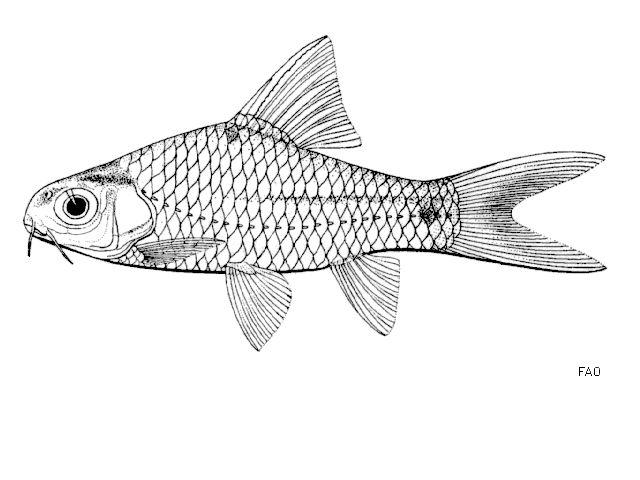Black Spotted Barb: (24, 34, 609, 354)
